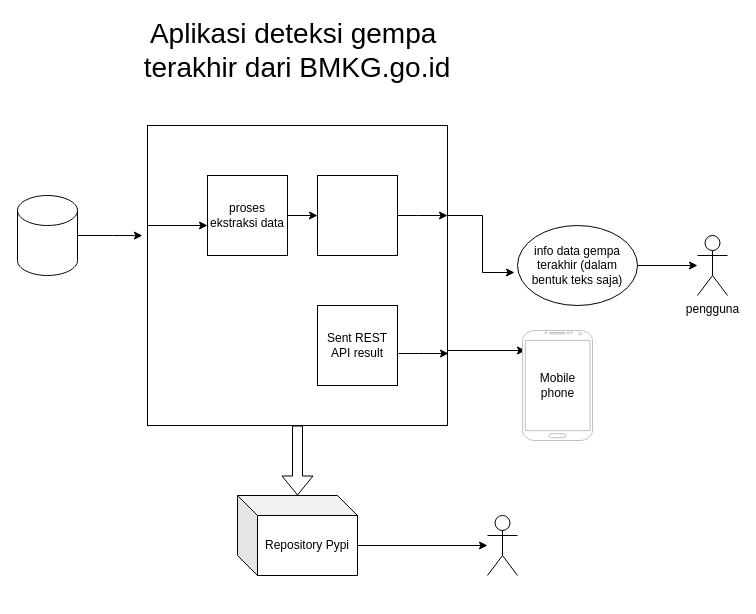
Image size: 756x614. Some labels were removed from this diagram. Each missing label, with the centre of its shape:
"programmer" goes at point (502, 545).
"proses penampilan data" goes at point (357, 215).
"sumber data dari BMKG" goes at point (47, 235).
